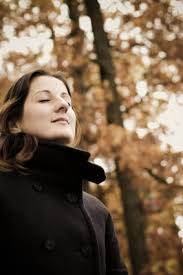No-Glasses: (32, 90, 77, 109)
